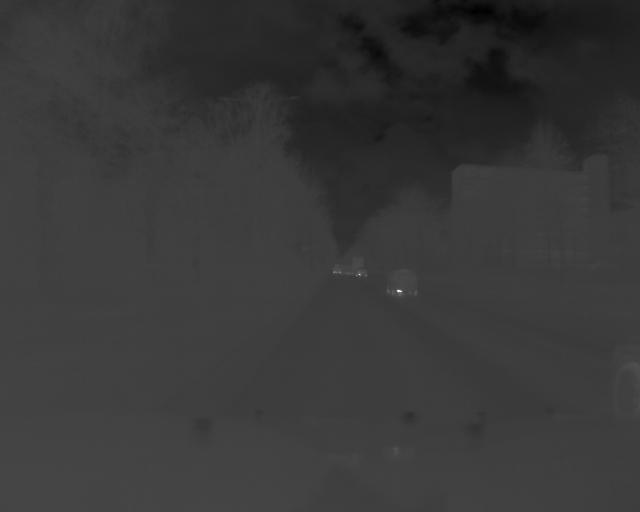car: (384, 269, 420, 299)
